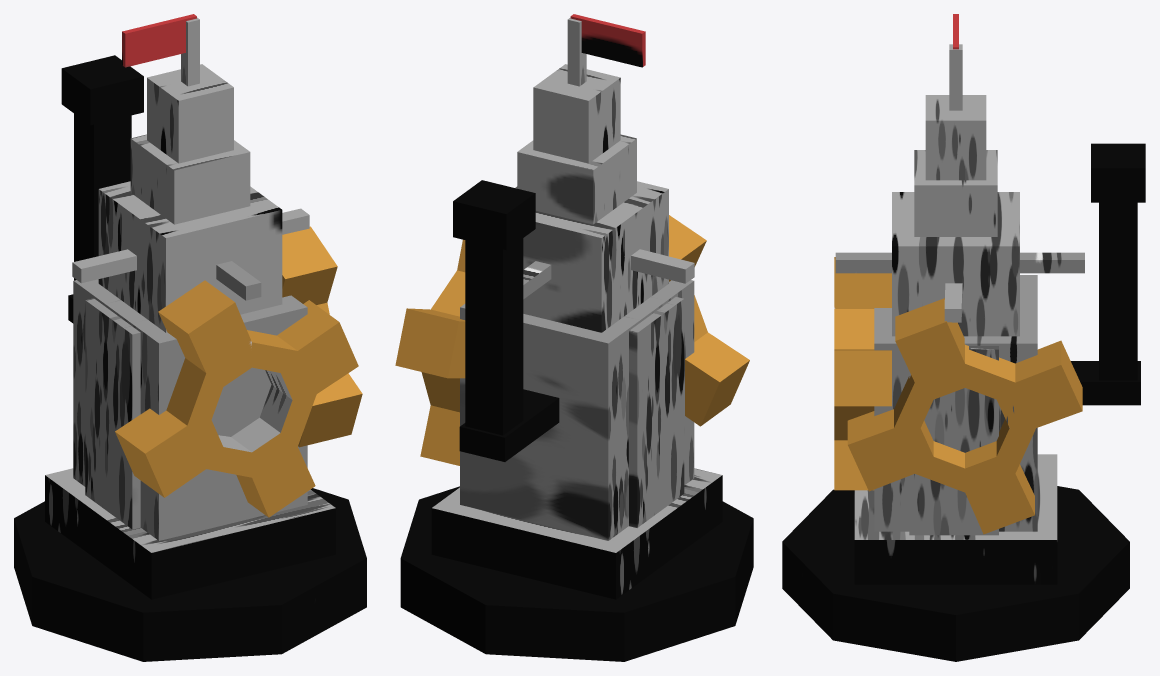
3 renders of one model, left to right at view 1: azimuth 30°, elevation 25°; view 2: azimuth 150°, elevation 25°; view 3: azimuth 270°, elevation 25°, orthographic. The views are drawn at different scales.
Parts seen in each view (by area): view 1: 立方体.012; view 2: 立方体.012; view 3: 立方体.012.
Part boxes in pixels (left/top/right/bottom): 立方体.012: left=14, top=14, right=366, bottom=661; 立方体.012: left=395, top=14, right=753, bottom=661; 立方体.012: left=782, top=14, right=1145, bottom=661.
Size of the model in its own units: 3.43 by 5.92 by 3.59.
1 material, 1 textured.
